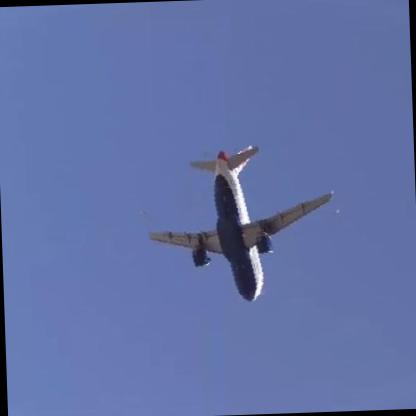plane: (138, 133, 348, 316)
